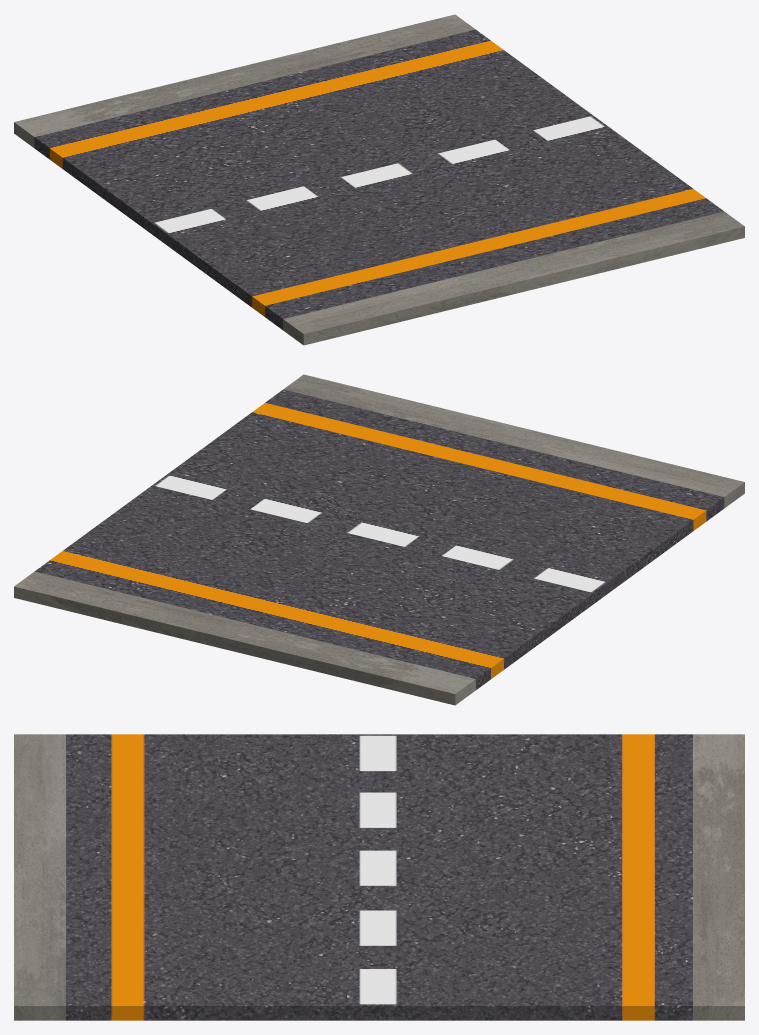
The model's file is Road.fbx.
3 renders of one model, top to bottom at view 1: azimuth 30°, elevation 25°; view 2: azimuth 150°, elevation 25°; view 3: azimuth 270°, elevation 25°, orthographic. The views are drawn at different scales.
Parts seen in each view (by area): view 1: Road; view 2: Road; view 3: Road.
Boxes of the visible parts, left/top/right/bottom form: Road: left=14, top=14, right=744, bottom=345; Road: left=14, top=374, right=744, bottom=705; Road: left=14, top=734, right=744, bottom=1020.
Size of the model in its own units: 590 by 14.53 by 670.
1 material, 1 textured.
